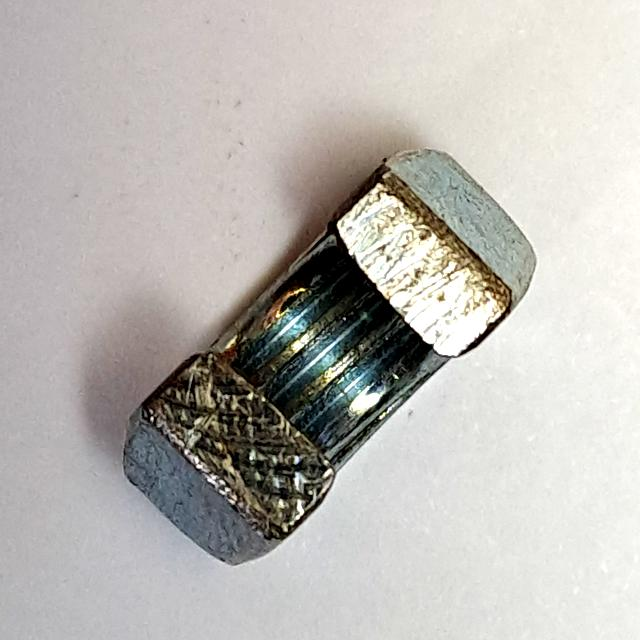Side-Fracture: (111, 130, 547, 581)
